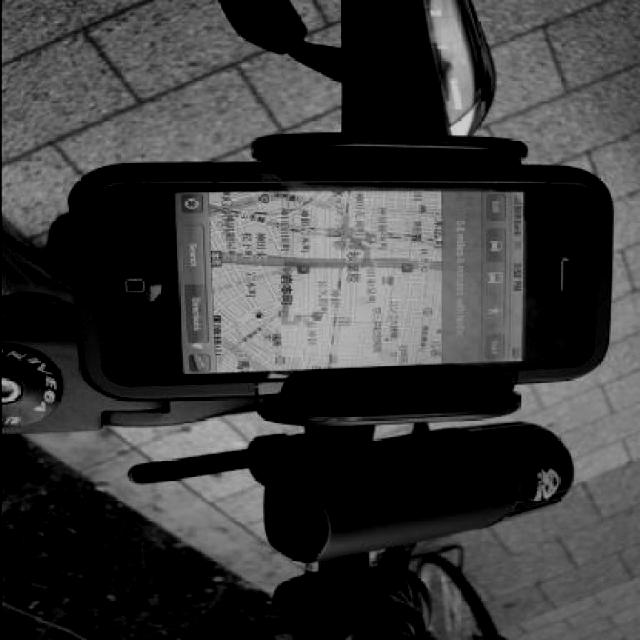fake: (36, 124, 610, 408)
